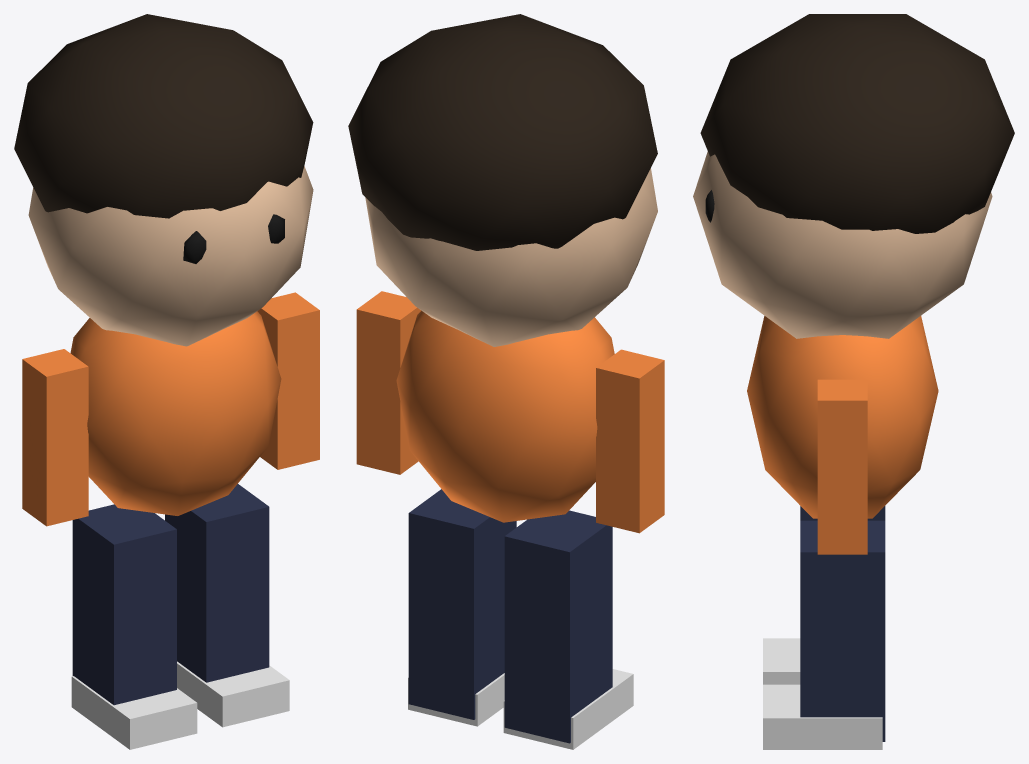
Rendered from character_rigid.glb.
3 renders of one model, left to right at view 1: azimuth 30°, elevation 25°; view 2: azimuth 150°, elevation 25°; view 3: azimuth 270°, elevation 25°, orthographic. The views are drawn at different scales.
Parts seen in each view (by area): view 1: hair, torso, head, leg, leg.001, arm, arm.001, shoe, shoe.001, eye.010; view 2: hair, torso, head, leg, leg.001, arm, arm.001, shoe, shoe.001; view 3: hair, head, torso, leg.001, arm.001, shoe.001, shoe.
Part boxes in pixels (<box>): hair: <box>14,14,313,218</box>; torso: <box>70,311,281,515</box>; head: <box>28,166,313,346</box>; leg: <box>72,504,176,705</box>; leg.001: <box>165,484,269,682</box>; arm: <box>22,349,88,526</box>; arm.001: <box>257,292,319,469</box>; shoe: <box>71,676,197,749</box>; shoe.001: <box>177,661,289,727</box>; eye.010: <box>183,231,206,263</box>; hair: <box>348,14,657,250</box>; torso: <box>396,310,614,522</box>; head: <box>365,168,657,346</box>; leg: <box>504,510,612,743</box>; leg.001: <box>408,489,516,719</box>; arm: <box>596,349,664,533</box>; arm.001: <box>356,291,420,474</box>; shoe: <box>503,669,633,749</box>; shoe.001: <box>408,673,504,726</box>; hair: <box>700,14,1014,233</box>; head: <box>693,151,992,338</box>; torso: <box>747,316,938,518</box>; leg.001: <box>800,520,885,741</box>; arm.001: <box>817,379,867,554</box>; shoe.001: <box>763,684,882,749</box>; shoe: <box>763,638,800,684</box>.
Bounding box in the file's own units: 0.65 × 1.51 × 0.645.
